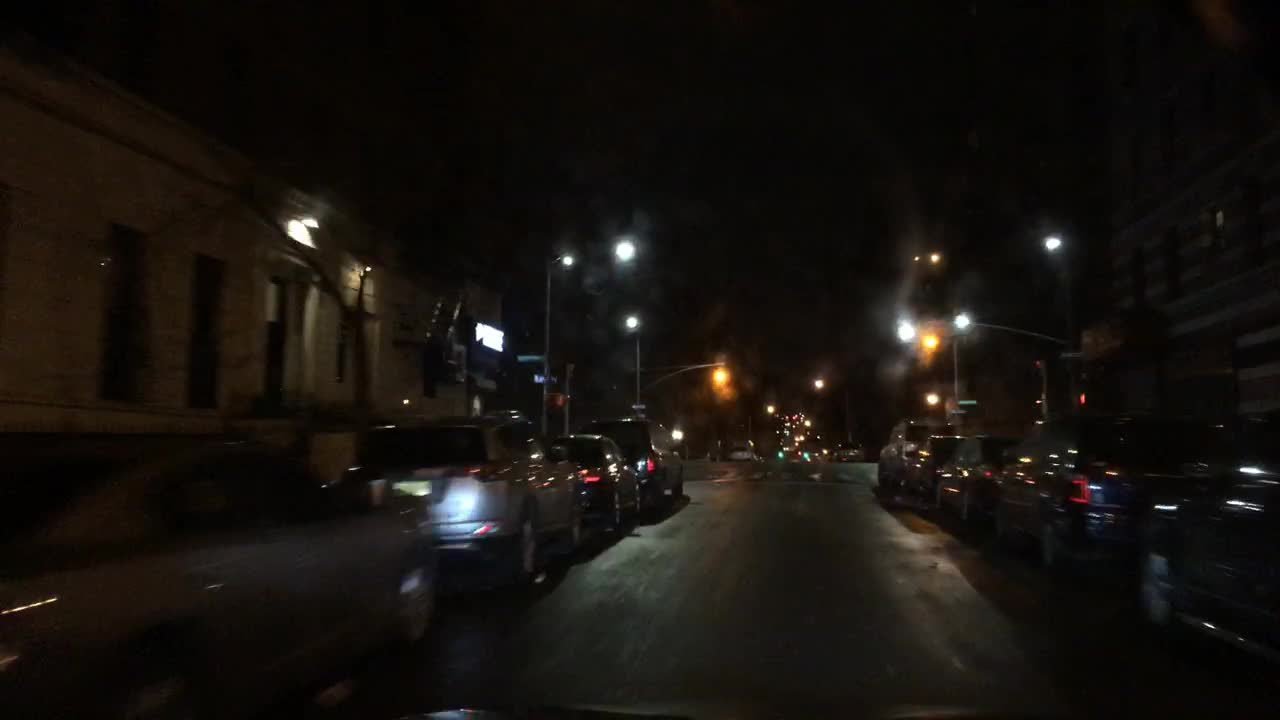car: (0, 428, 440, 719), (363, 407, 587, 587), (989, 412, 1220, 580), (1127, 422, 1279, 671), (580, 415, 683, 525), (550, 428, 641, 535), (933, 430, 1024, 530), (874, 417, 951, 503), (901, 428, 967, 508), (721, 437, 756, 462), (832, 440, 862, 462)
traffic light: (921, 322, 938, 351), (548, 388, 567, 408), (1076, 390, 1097, 407), (716, 361, 727, 388)
traffic sign: (516, 349, 543, 364), (627, 398, 648, 413), (530, 369, 548, 386), (948, 403, 968, 417), (957, 395, 977, 405)
